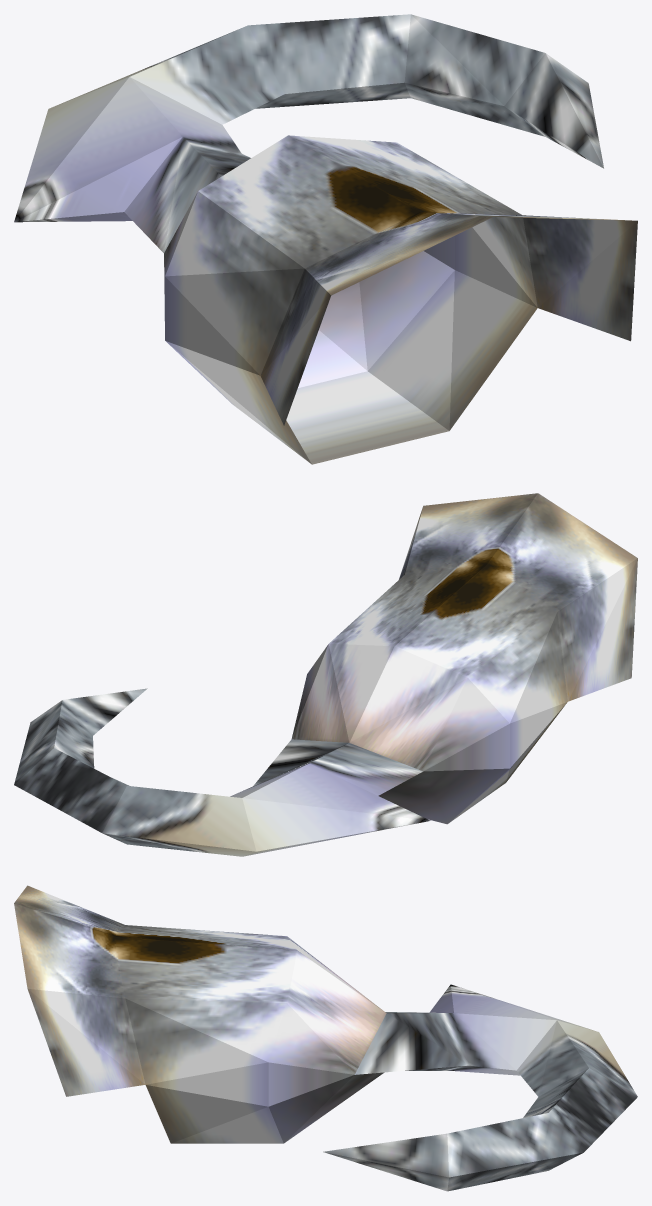
File: twinblade103_1.obj
The picture shows the model from 3 angles, top to bottom: view 1: azimuth 30°, elevation 25°; view 2: azimuth 150°, elevation 25°; view 3: azimuth 270°, elevation 25°; orthographic projection. The views are drawn at different scales.
Visible parts, largest first — view 1: MDL_cwdhkn03_1r; view 2: MDL_cwdhkn03_1r; view 3: MDL_cwdhkn03_1r.
Boxes of the visible parts, box(x1,y1,x2,y2) form: MDL_cwdhkn03_1r: box(14, 14, 637, 464); MDL_cwdhkn03_1r: box(14, 493, 637, 856); MDL_cwdhkn03_1r: box(14, 885, 637, 1191).
Bounding box in the file's own units: 0.3438 × 0.1774 × 0.4625.
